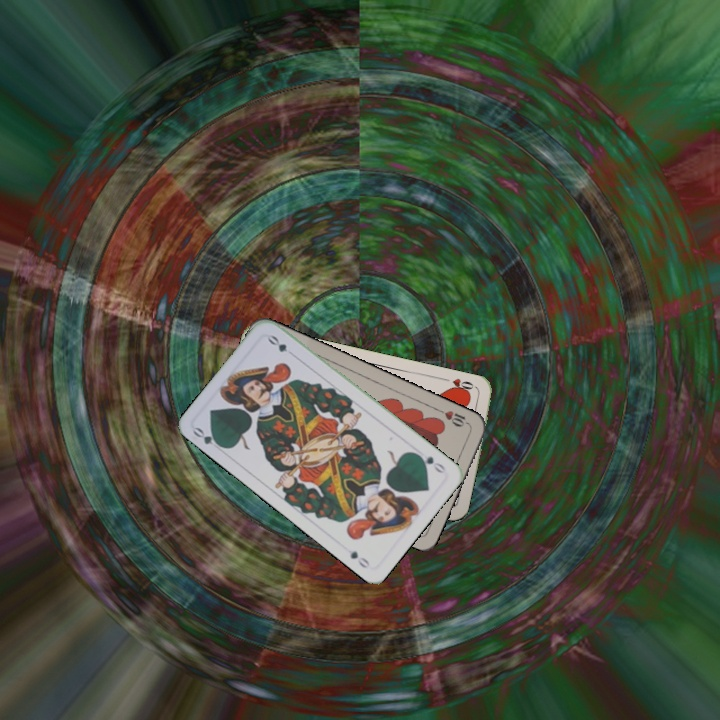GO: (189, 423, 227, 451), (412, 449, 449, 476)
H10: (434, 405, 473, 430)
HO: (440, 374, 480, 396)
